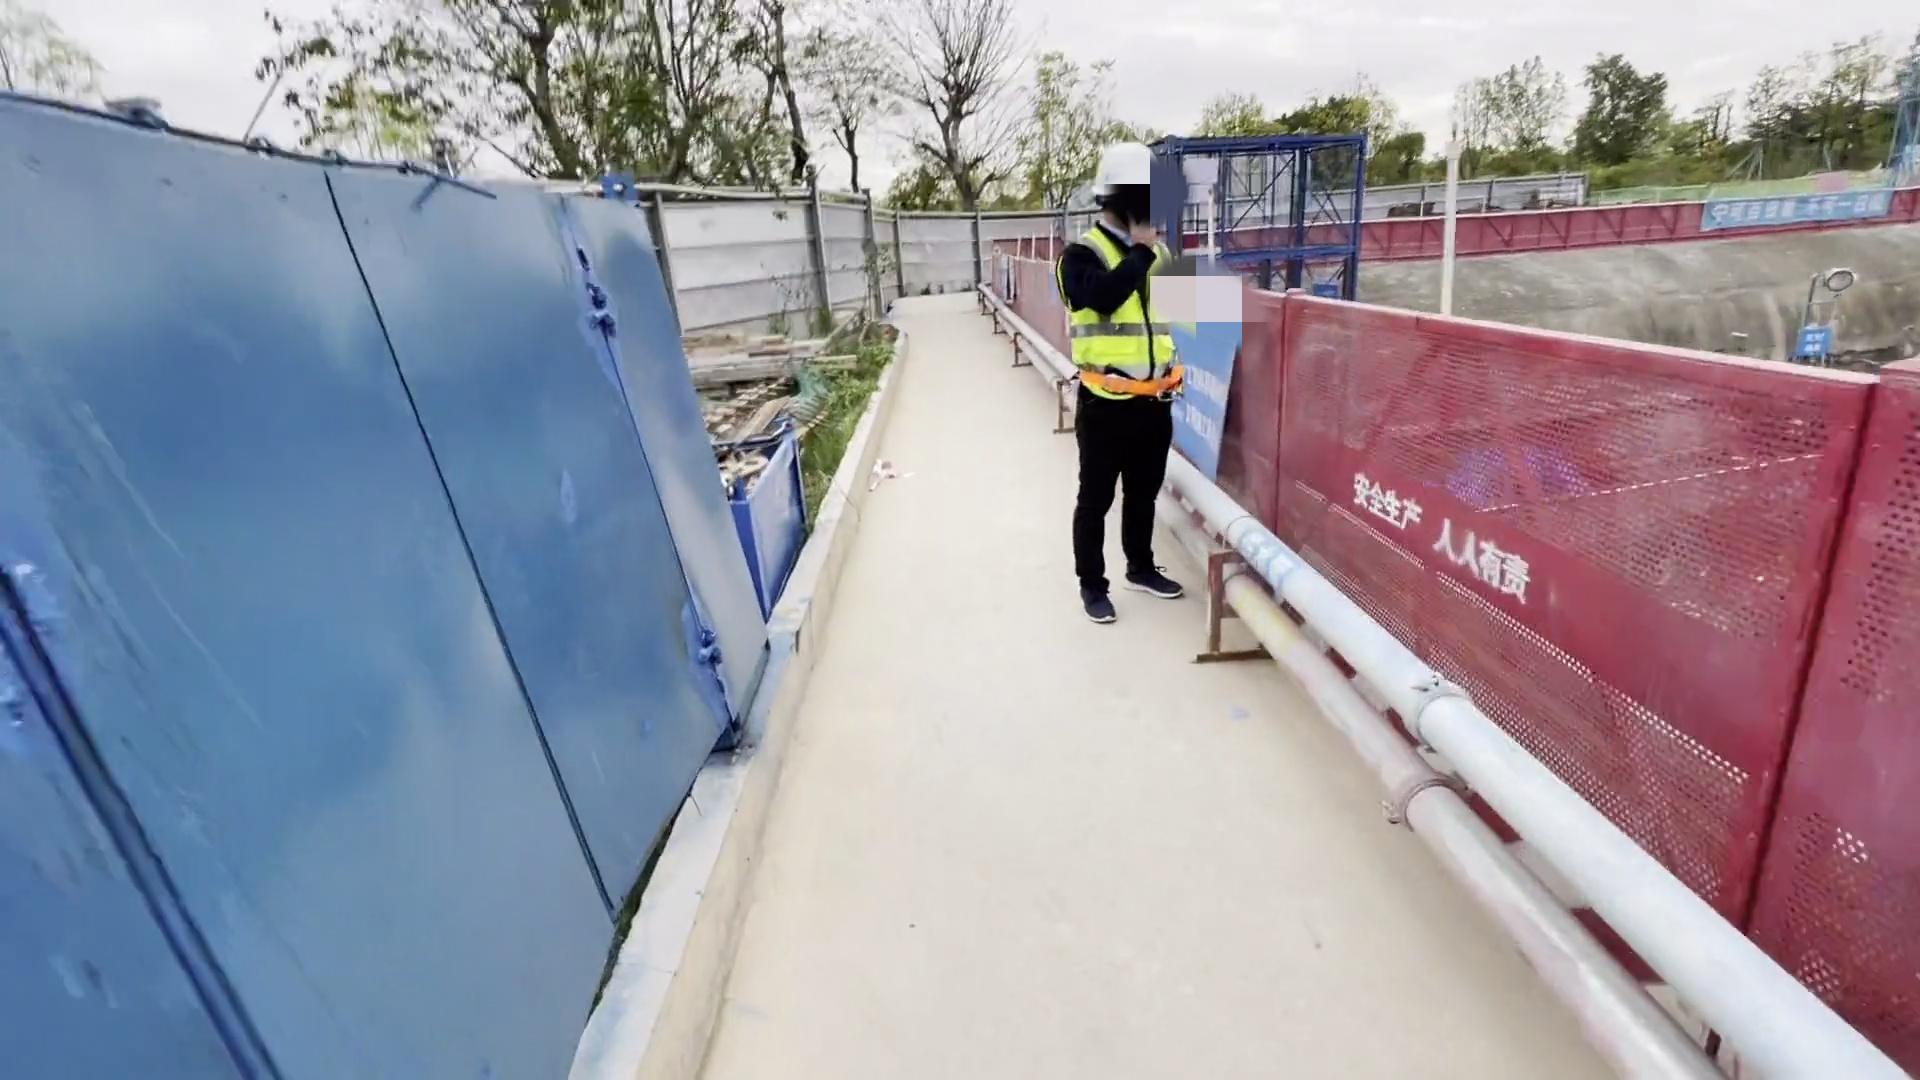fence: (1131, 258, 1886, 1020), (1195, 193, 1905, 260), (922, 192, 1056, 329)
helmet: (1095, 130, 1171, 199)
hopper: (705, 400, 830, 579)
person: (1054, 128, 1194, 627)
slogan: (1174, 298, 1230, 468), (1701, 192, 1893, 237), (1799, 318, 1831, 370)
vest: (1061, 224, 1197, 421)
